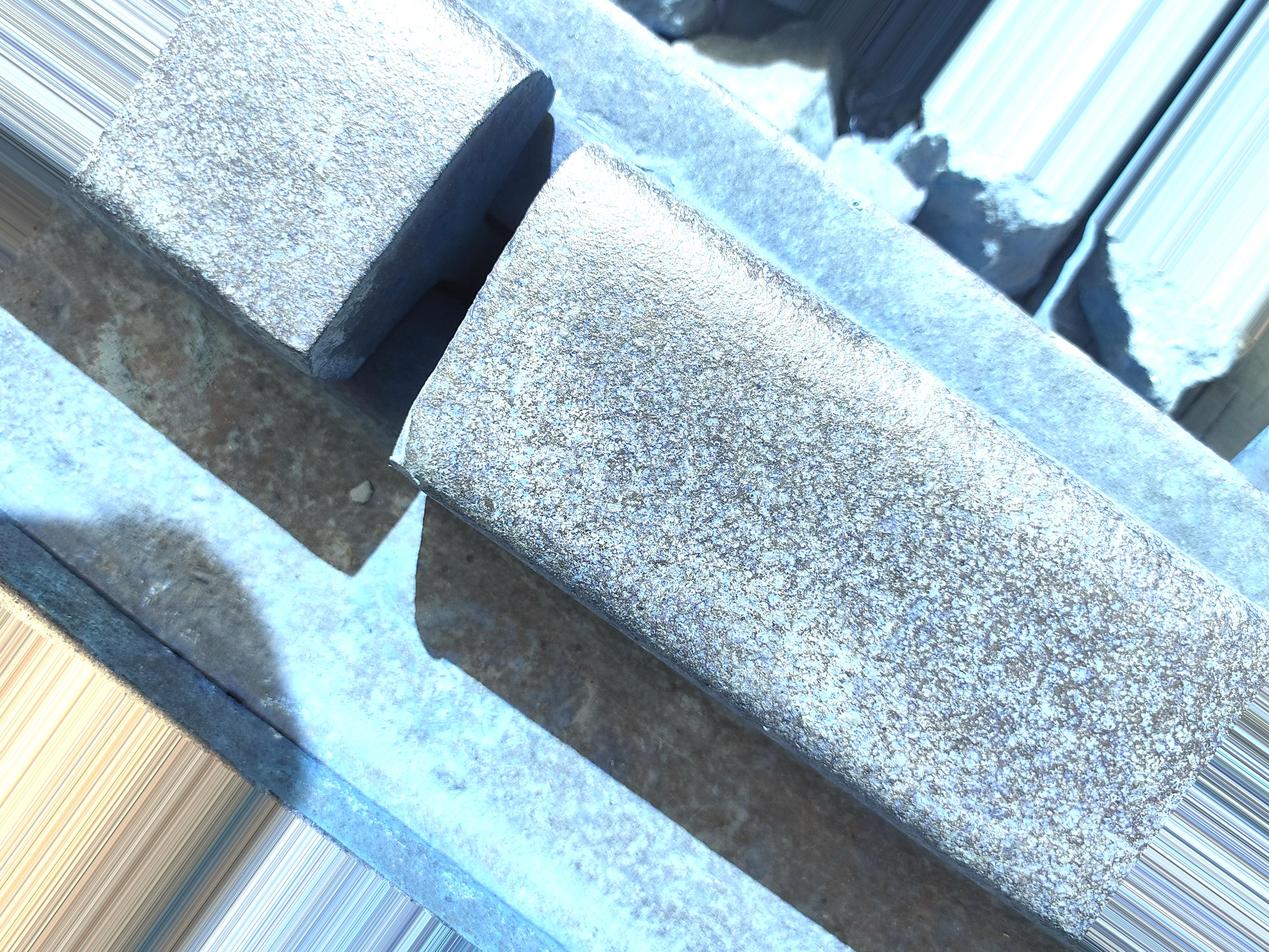tracks_fault: (197, 42, 674, 570)
